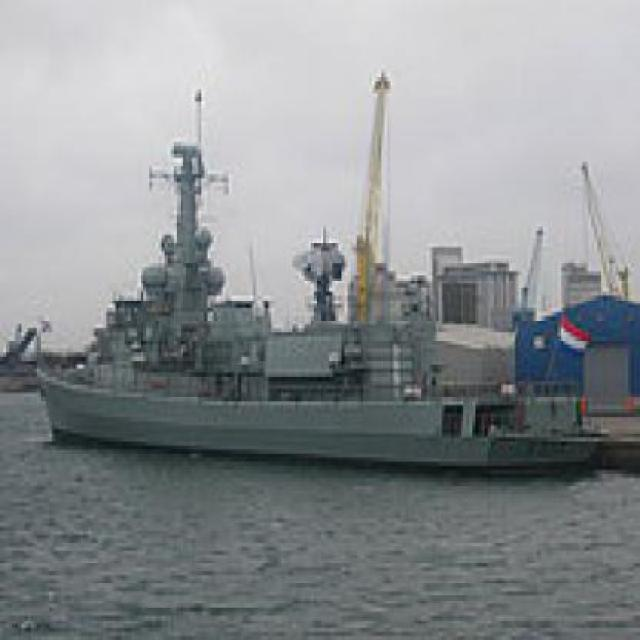warship2: (25, 103, 589, 487)
